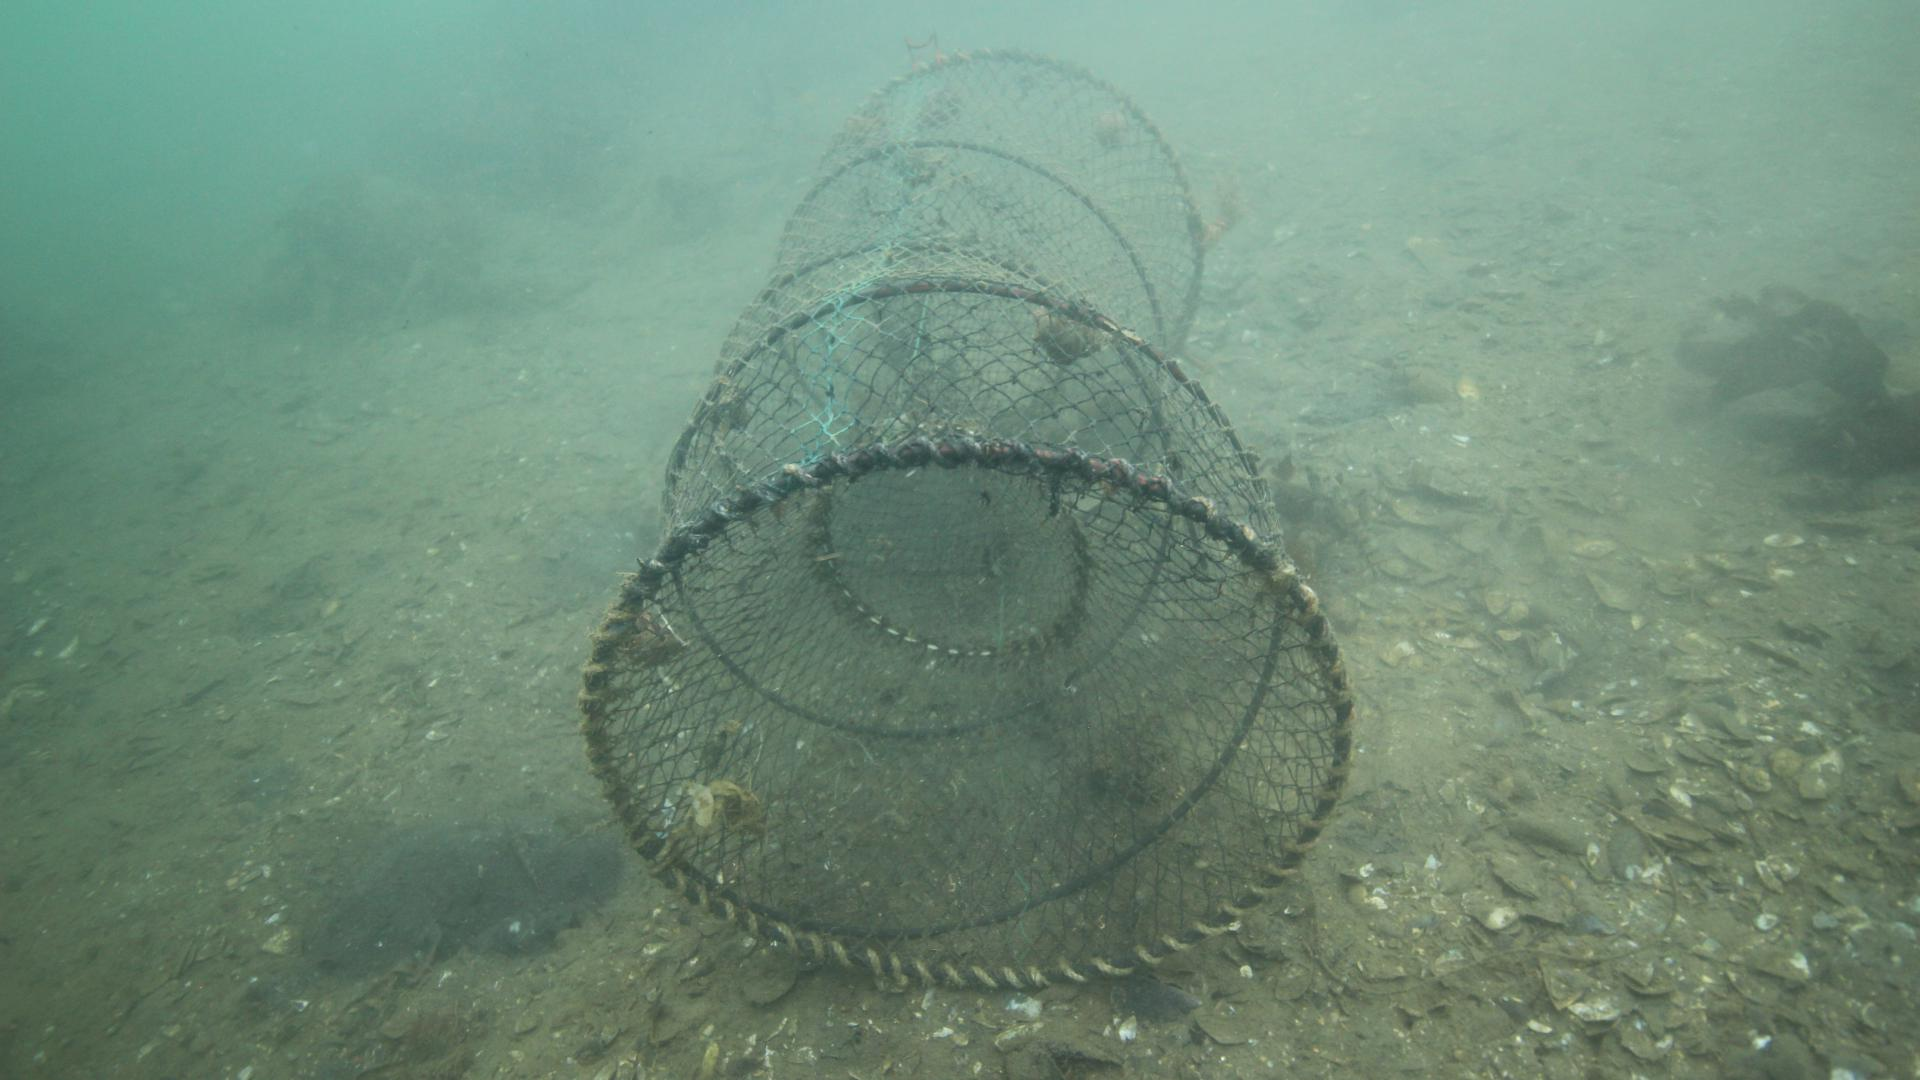spring fish trap: (584, 50, 1362, 1000)
